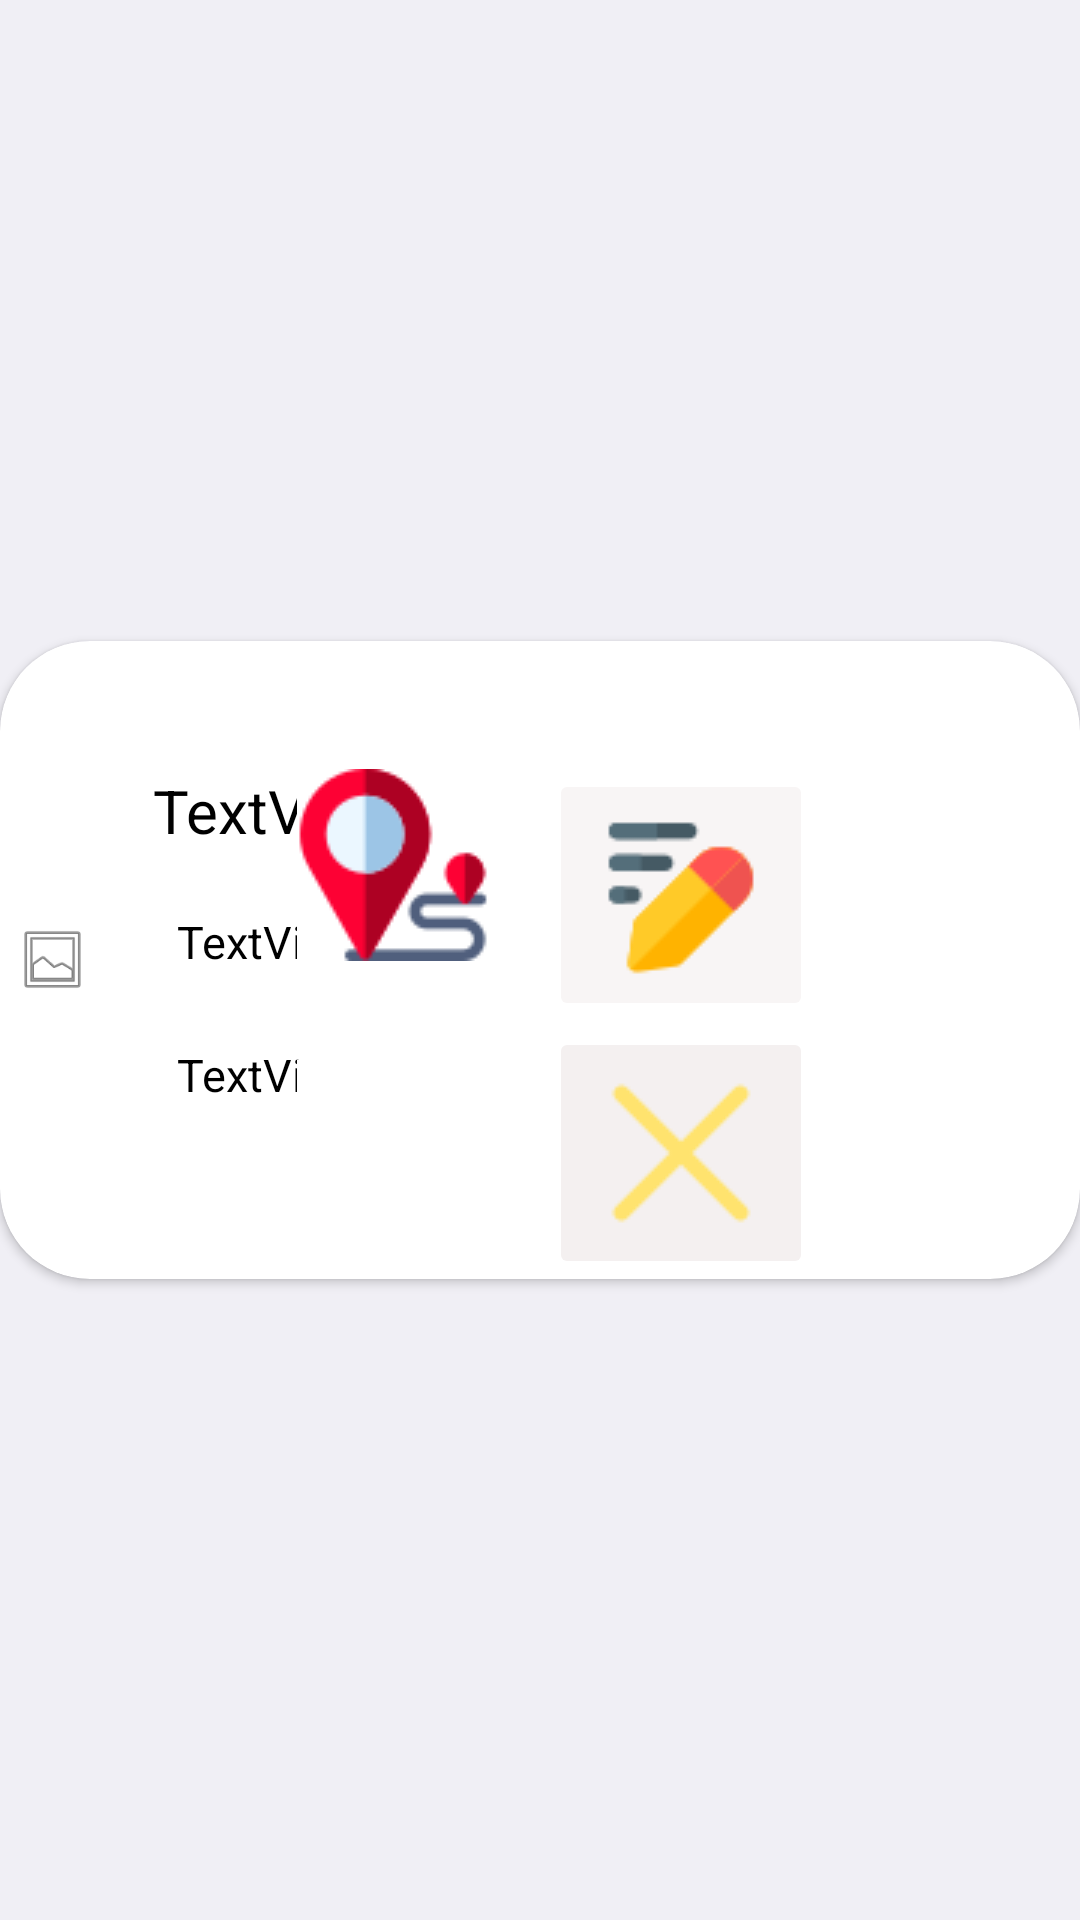

Where to tap for icons on this 1080 x 1920 app screen, as (x,y):
cancel: (681,1153)
edit: (681,898)
gallery: (52,959)
route: (393,865)
